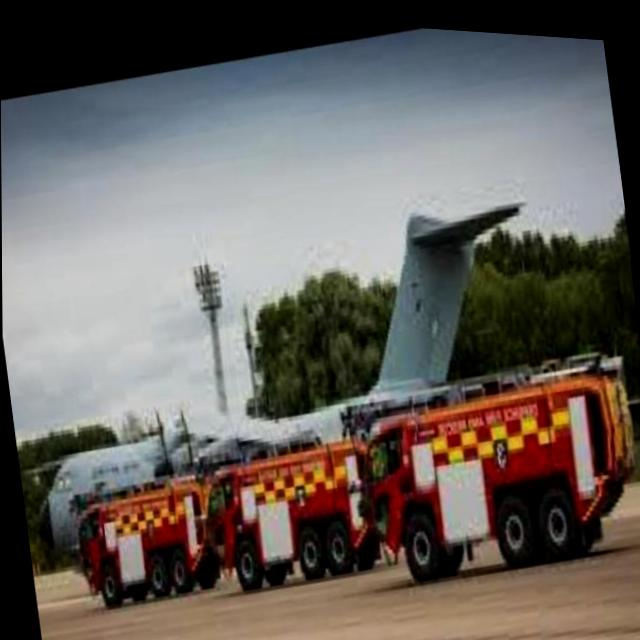emergency: (345, 333, 640, 600), (192, 409, 408, 606), (66, 458, 224, 620)
